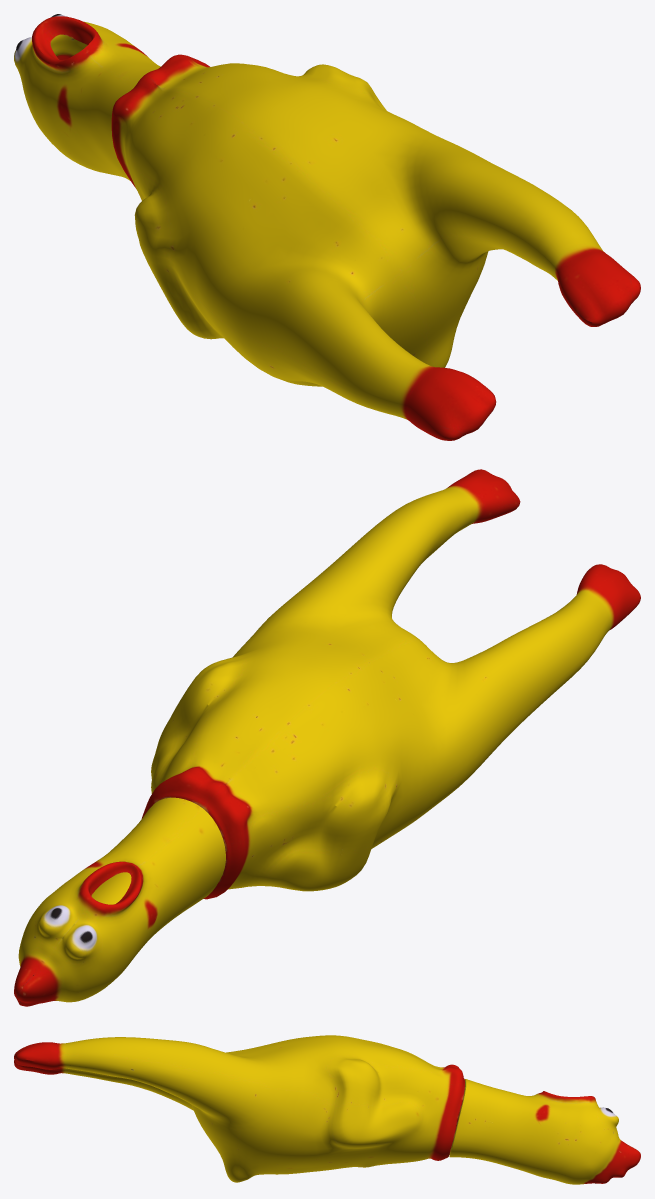
Rendered from duck.fbx.
The picture shows the model from 3 angles, top to bottom: view 1: azimuth 30°, elevation 25°; view 2: azimuth 150°, elevation 25°; view 3: azimuth 270°, elevation 25°; orthographic projection. The views are drawn at different scales.
Visible parts, largest first — view 1: body; view 2: body; view 3: body.
Boxes of the visible parts, <box> form: body: <box>14,14,640,440</box>; body: <box>14,469,640,1006</box>; body: <box>14,1035,640,1184</box>.
Bounding box in the file's own units: 4.31 × 3.9 × 15.23.
1 material, 1 textured.
